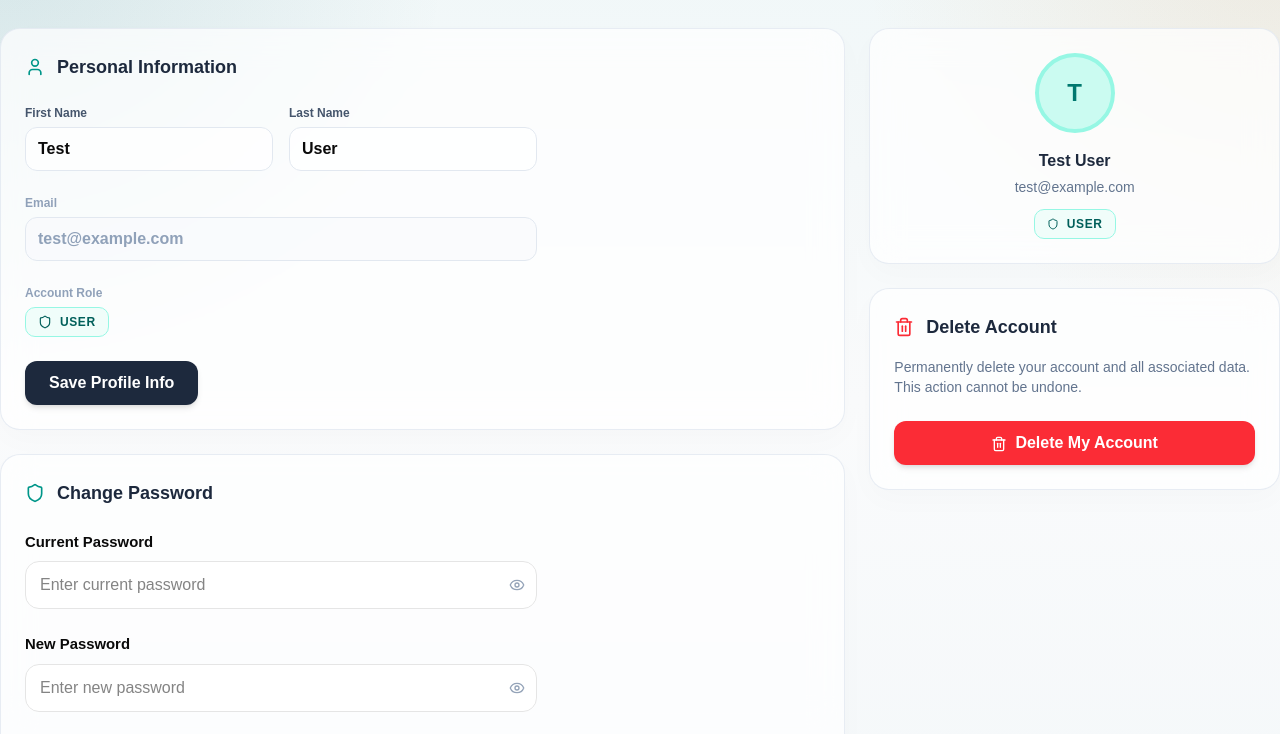
Test: DashboardSettings › shows pending state on password submit button
Type "currentpass123" into the password field labelled "Current Password" at point(281, 585), box [25,561,537,609]
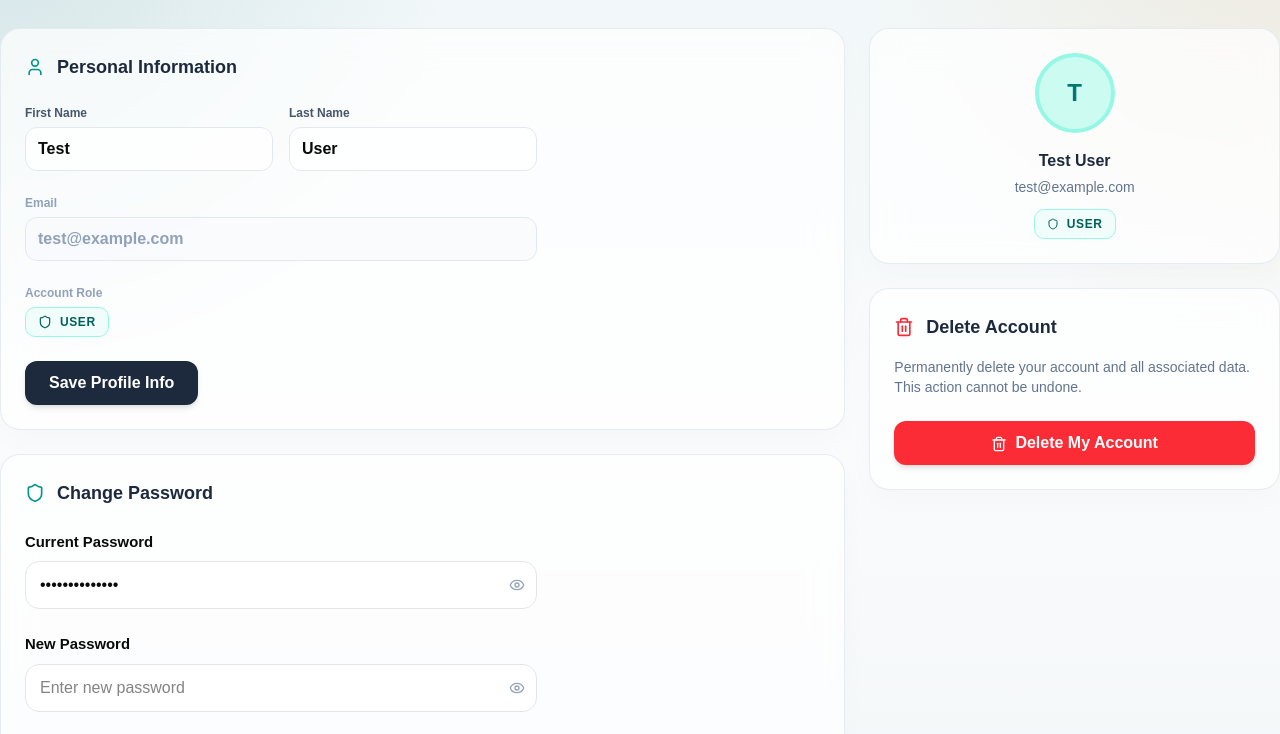
Type "newpassword456" into the password field labelled "New Password" at point(281, 688), box [25,664,537,712]
(page scrolled)
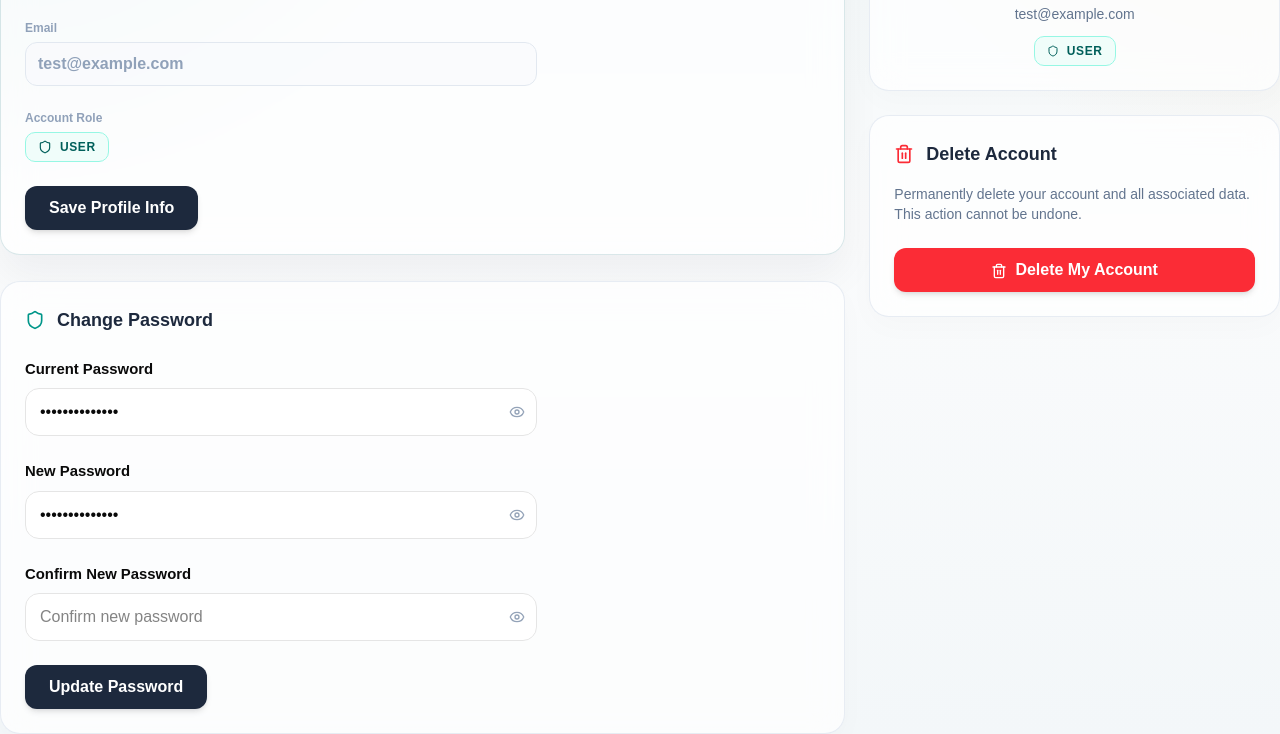
Type "newpassword456" into the password field labelled "Confirm New Password" at point(281, 617), box [25,593,537,641]
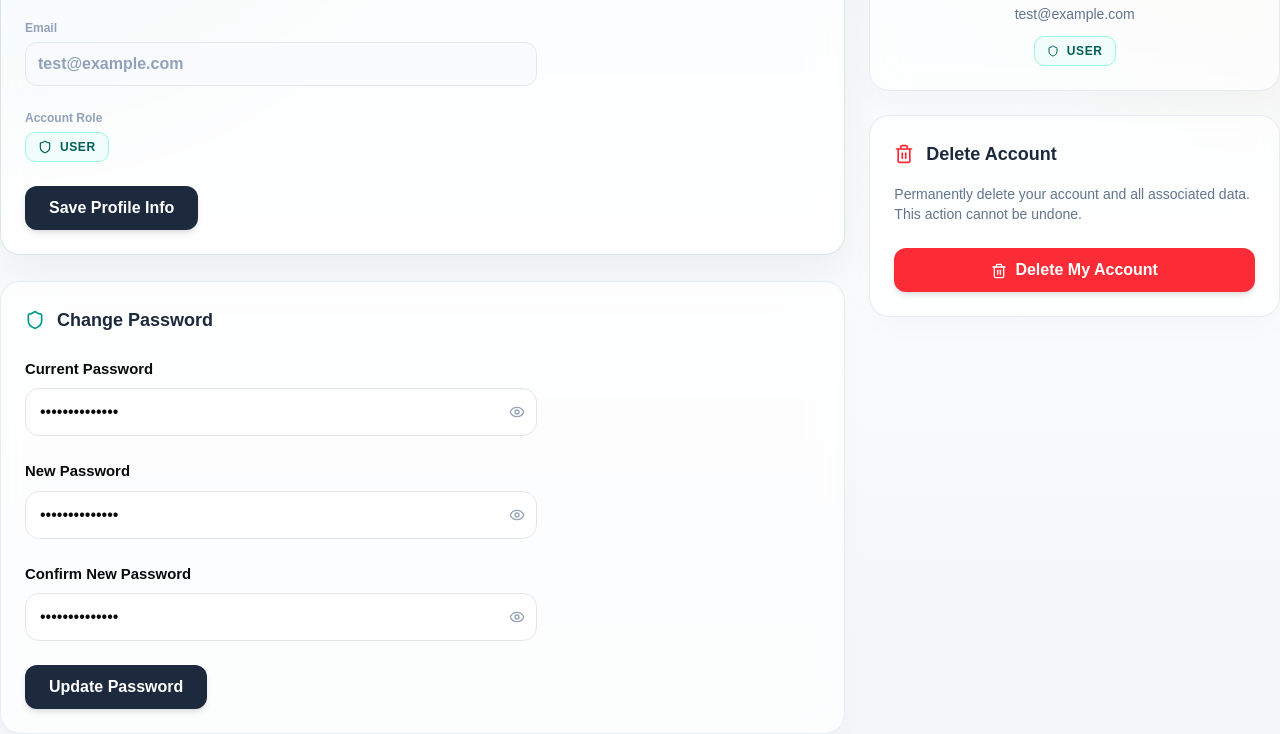
Click the button with test id "password-submit" at point(116, 687), box [25,665,207,709]
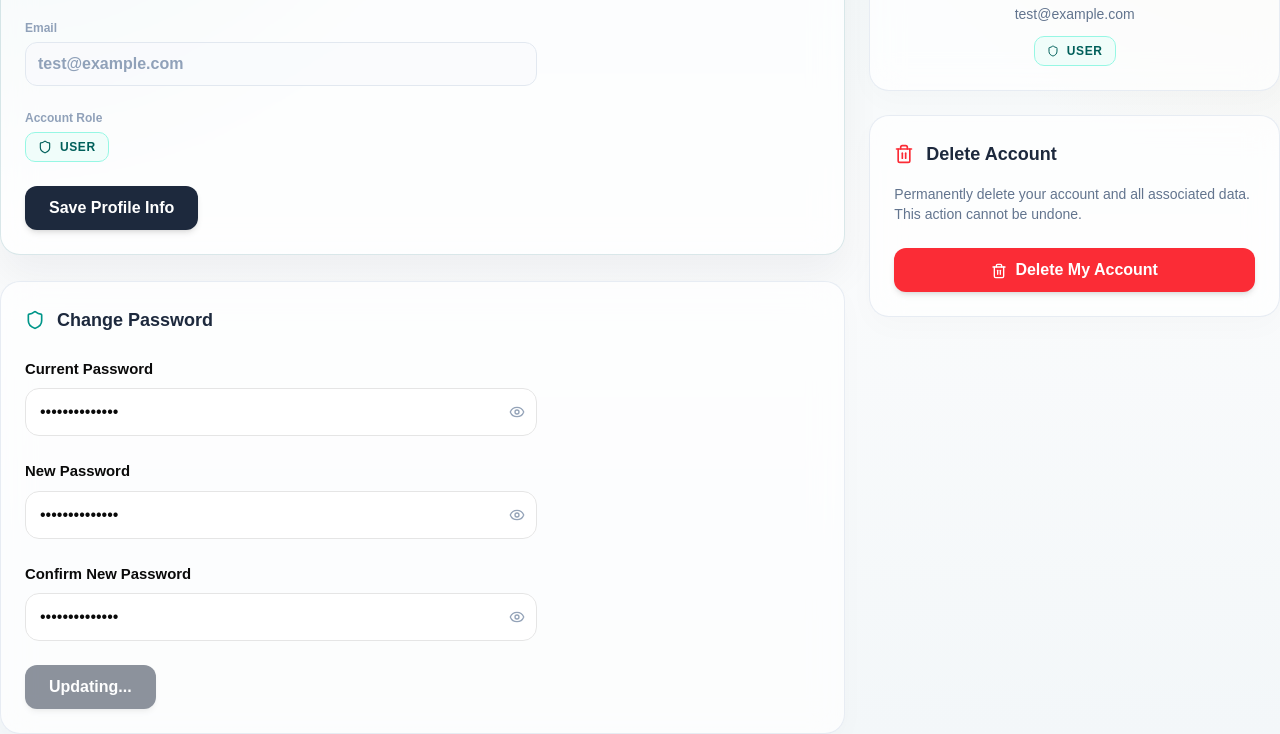
Result: the button with test id "password-submit" reads "Updating..." at [25,665,156,709]
